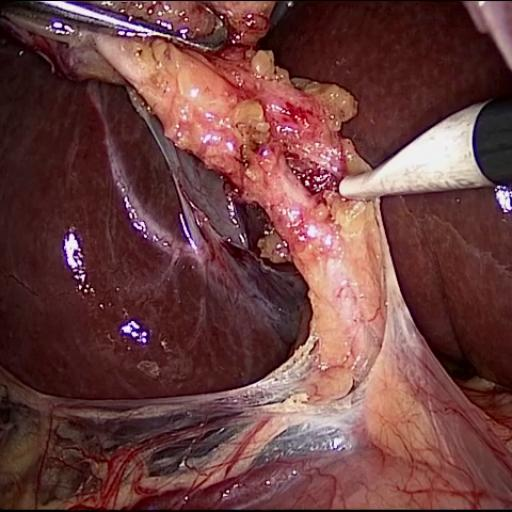Grasper: (14, 0, 331, 79)
Hook: (324, 84, 498, 232)
